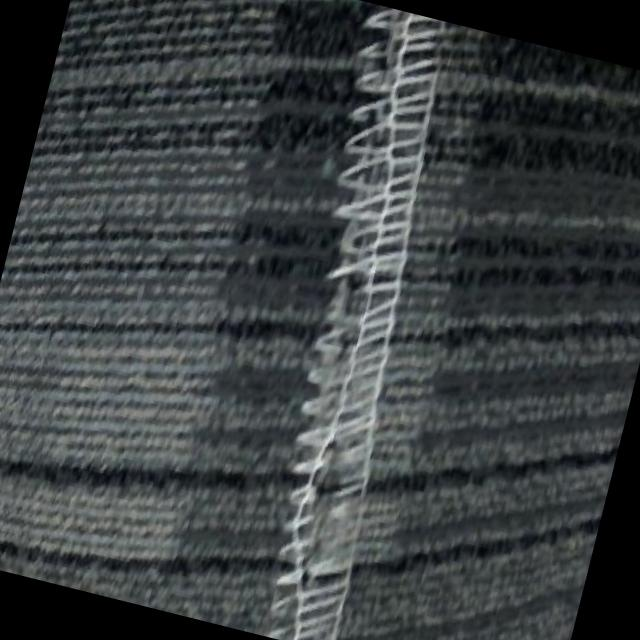gray stitch: (214, 5, 489, 640)
